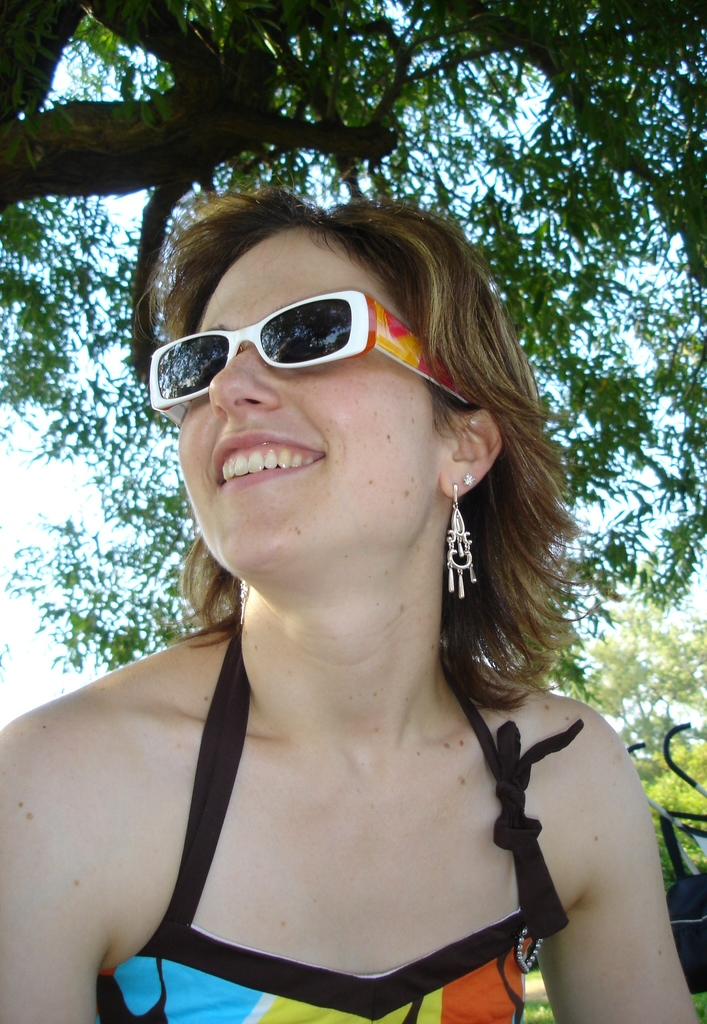Human-face: (175, 239, 449, 577)
